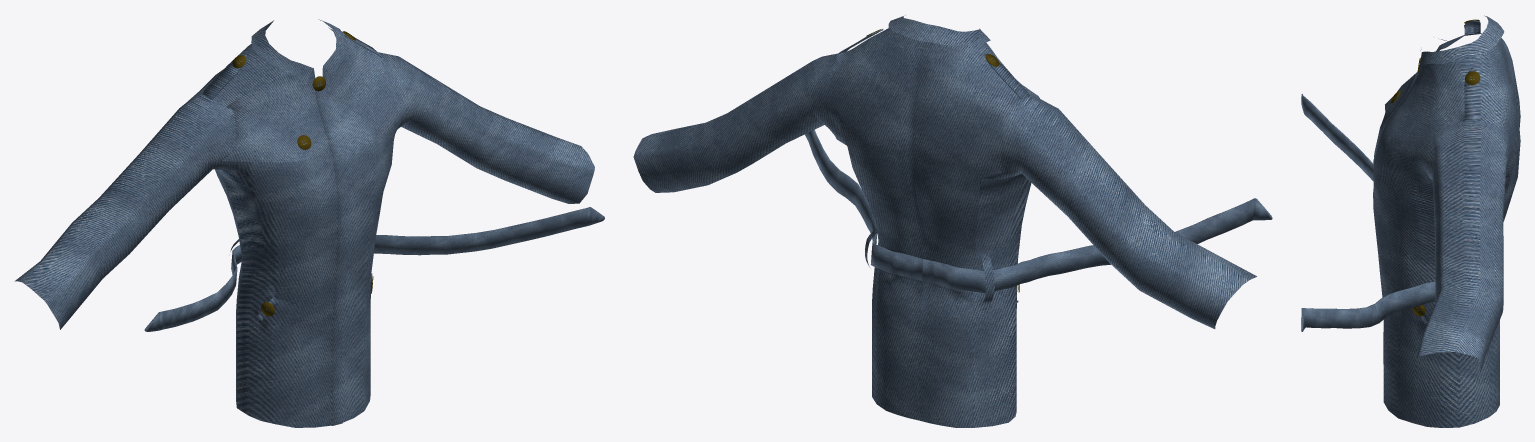
File: Casaco.gltf
3 views of the same model, side by side, from view 1: azimuth 30°, elevation 25°; view 2: azimuth 150°, elevation 25°; view 3: azimuth 270°, elevation 25° (orthographic). The views are drawn at different scales.
Visible parts, largest first — view 1: Casaco, Cinto; view 2: Casaco, Cinto; view 3: Casaco, Cinto.
Part boxes in pixels (x1,y1,x2,y2): Casaco: (14, 19, 594, 427); Cinto: (144, 207, 604, 331); Casaco: (633, 15, 1256, 427); Cinto: (805, 129, 1272, 292); Casaco: (1373, 15, 1520, 427); Cinto: (1301, 94, 1435, 331).
Size of the model in its own units: 113 by 71.79 by 37.58.
Materials: 3 (2 with a texture image).
